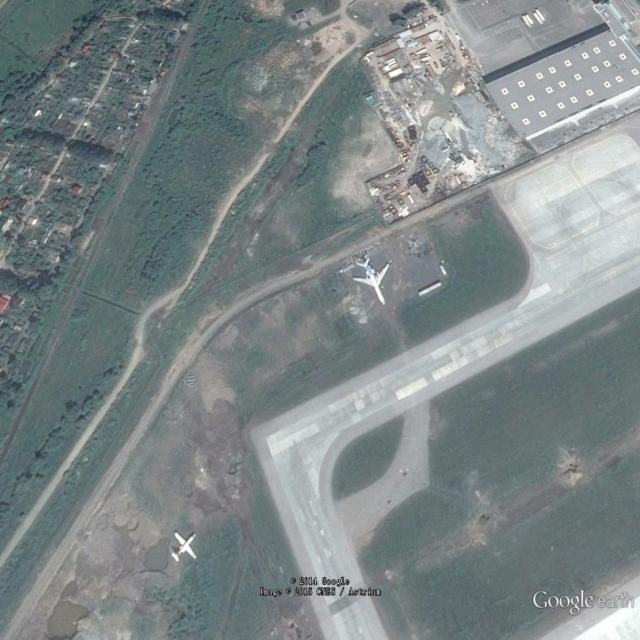aircraft: (352, 258, 397, 311), (170, 531, 202, 565)
